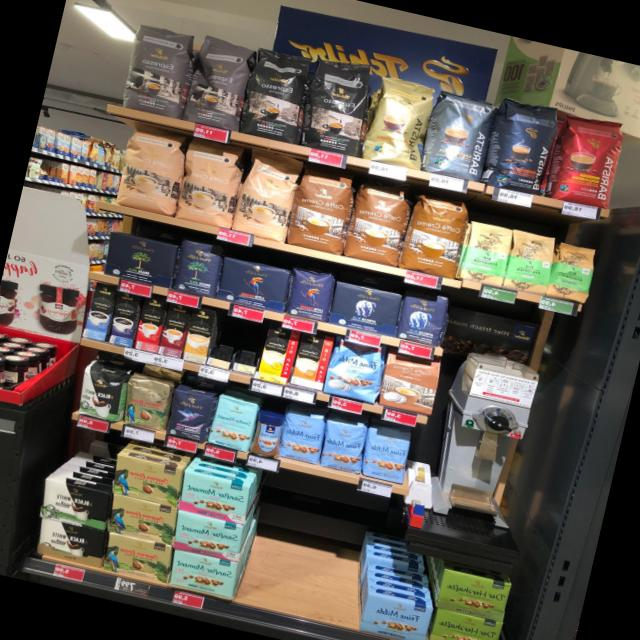AB Bohne: (395, 289, 451, 347)
AB Gemahlen: (328, 281, 403, 337)
Athiopien Bohne: (545, 238, 599, 304)
Athiopien Gemahlen: (457, 216, 515, 289), (501, 227, 559, 297)
BM Bohne: (171, 234, 225, 299)
BM Gemahlen: (102, 230, 179, 289)
BW Bohne: (74, 360, 129, 423)
BW Gemahlen: (38, 478, 109, 532), (35, 517, 106, 568)
Barista CB: (359, 72, 439, 170)
Barista CC: (422, 86, 499, 181)
Barista Espresso: (482, 94, 561, 195)
Barista Kolumbien: (543, 106, 629, 211)
C Fino Bohne: (163, 385, 217, 445)
CC Mild: (108, 120, 189, 216), (229, 149, 305, 245), (172, 134, 247, 230)
CC Vollmundig: (376, 350, 443, 417)
CC Vollmundig 36 Pads: (397, 188, 474, 280), (341, 176, 415, 268), (285, 167, 359, 256)
Colombia BB Bohne: (122, 372, 173, 432)
Colombia BB Gemahlen: (111, 454, 181, 507), (106, 493, 177, 545), (102, 532, 172, 584)
Empty Shelf: (234, 470, 377, 628), (232, 318, 266, 367), (208, 312, 241, 361)
Espresso Aromatisch: (118, 18, 198, 120), (180, 30, 256, 133)
Espresso Kraftig: (298, 52, 376, 159), (237, 42, 316, 146)
FM 36 Pads: (321, 338, 387, 406)
FM Bohne: (360, 420, 414, 485), (277, 405, 326, 465), (318, 417, 368, 475)
FM Gemahlen: (357, 590, 434, 640)
FM Instant: (248, 408, 285, 460)
Herzhatfe Mundig: (435, 567, 511, 623), (428, 607, 502, 640)
LG Bohne: (283, 264, 336, 323)
LG Gemahlen: (216, 255, 291, 314)
SM Bohne: (205, 391, 260, 453)
SM Gemahlen: (178, 471, 251, 525), (172, 510, 244, 563), (169, 549, 238, 598)
Simo CCMild: (255, 323, 300, 385)
Simo CCVollmundig: (289, 332, 334, 391)
Simo Decaff: (182, 307, 215, 365)
Simo Es Brazil: (134, 297, 168, 353)
Simo Es Caramel: (157, 302, 192, 359)
Simo Es Kraft: (108, 291, 140, 348)
Simo Es Vanilla: (82, 281, 116, 341)
